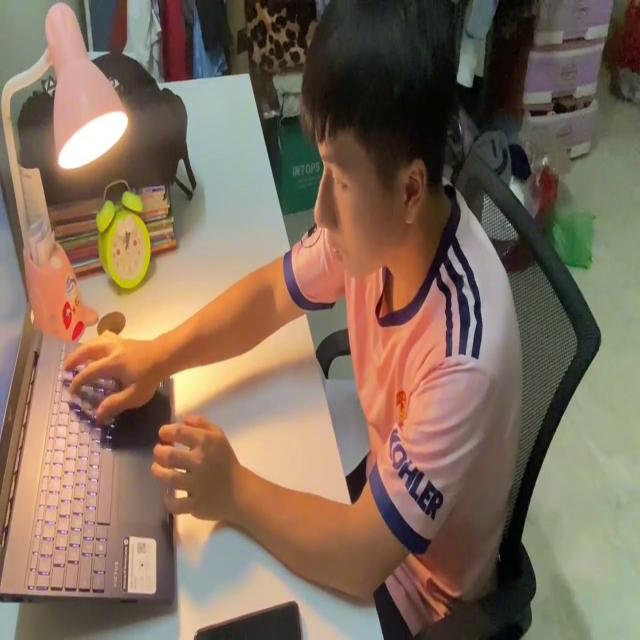book: (315, 354, 376, 476)
laptop: (0, 166, 183, 611)
phone: (195, 599, 306, 640)
student: (61, 0, 523, 640)
